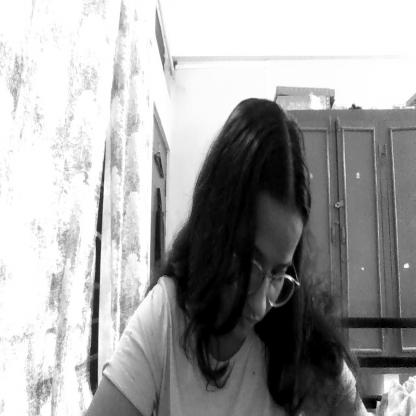Distracted: (232, 191, 304, 335)
